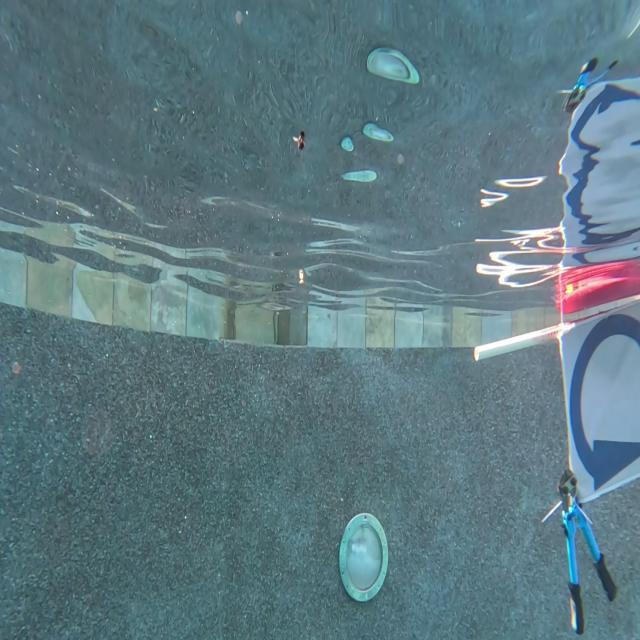blue_side: (564, 316, 640, 487)
